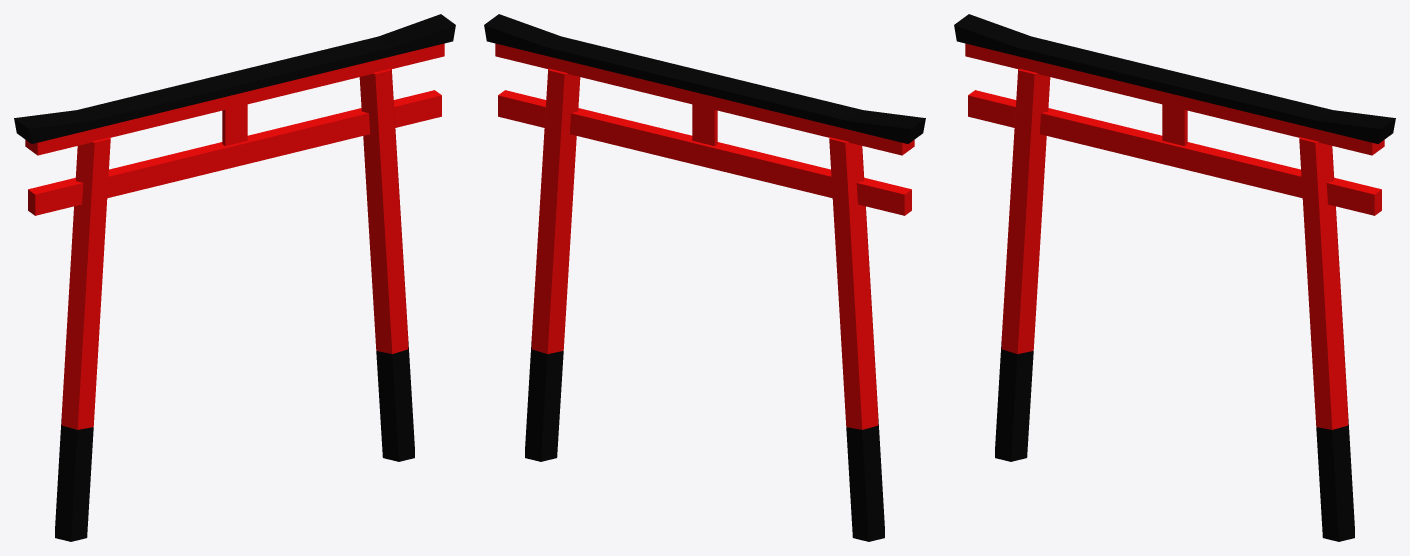
Rendered from Torii.fbx.
The picture shows the model from 3 angles, left to right: view 1: azimuth 30°, elevation 25°; view 2: azimuth 150°, elevation 25°; view 3: azimuth 330°, elevation 25°; orthographic projection.
Parts seen in each view (by area): view 1: TORII; view 2: TORII; view 3: TORII.
Part boxes in pixels (x1,y1,x2,y2): TORII: [14, 14, 455, 541]; TORII: [484, 14, 925, 541]; TORII: [954, 14, 1395, 541].
Bounding box in the file's own units: 2.27 × 2.14 × 0.1483.
